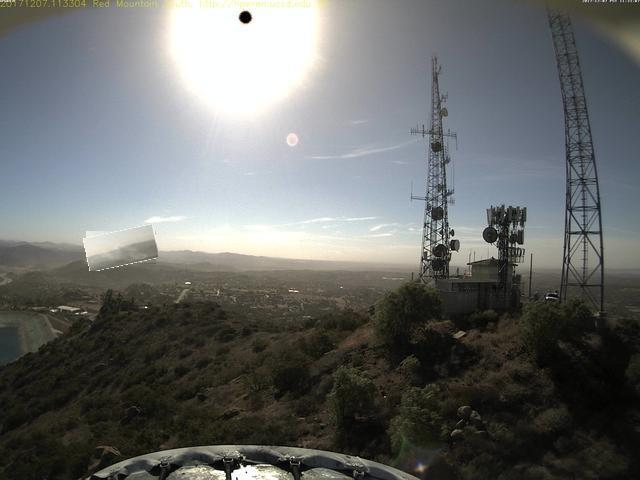smoke: (86, 229, 159, 270)
